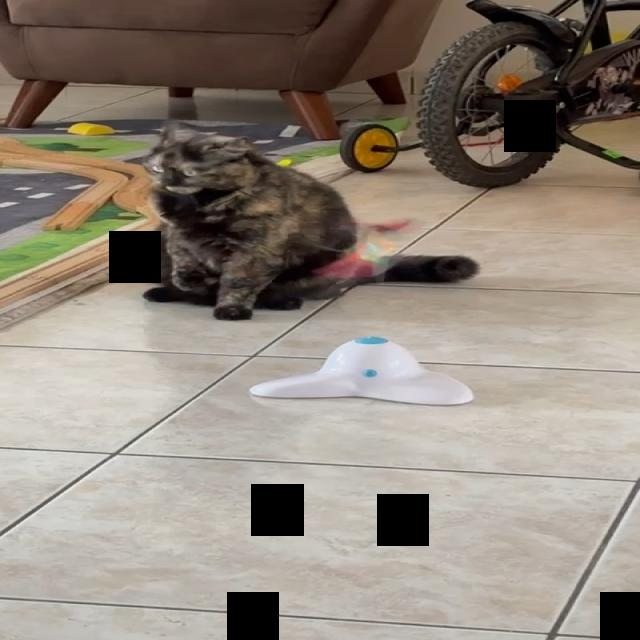authorized: (137, 118, 479, 321)
